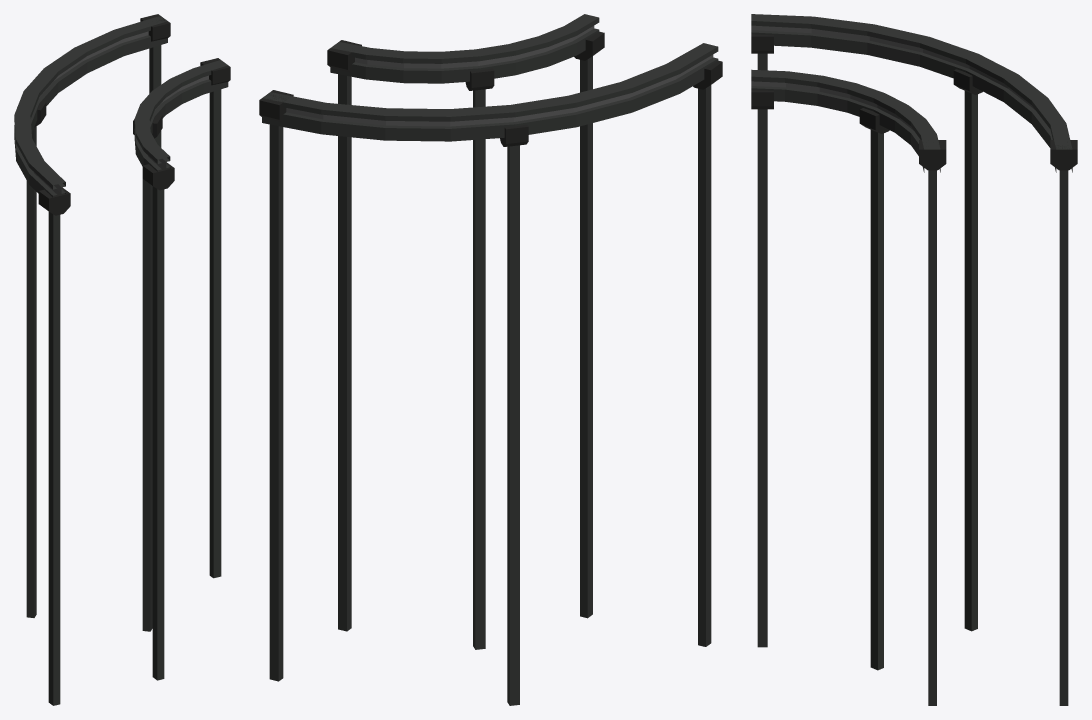
Rendered from railroad _curve_.fbx.
3 renders of one model, left to right at view 1: azimuth 30°, elevation 25°; view 2: azimuth 150°, elevation 25°; view 3: azimuth 270°, elevation 25°, orthographic. The views are drawn at different scales.
Visible parts, largest first — view 1: railroad_curve; view 2: railroad_curve; view 3: railroad_curve.
Part boxes in pixels (x1=…): railroad_curve: x1=14, y1=14, x2=230, y2=705; railroad_curve: x1=259, y1=14, x2=722, y2=705; railroad_curve: x1=751, y1=14, x2=1077, y2=705.
Size of the model in its own units: 3.96 by 7.67 by 3.96.
